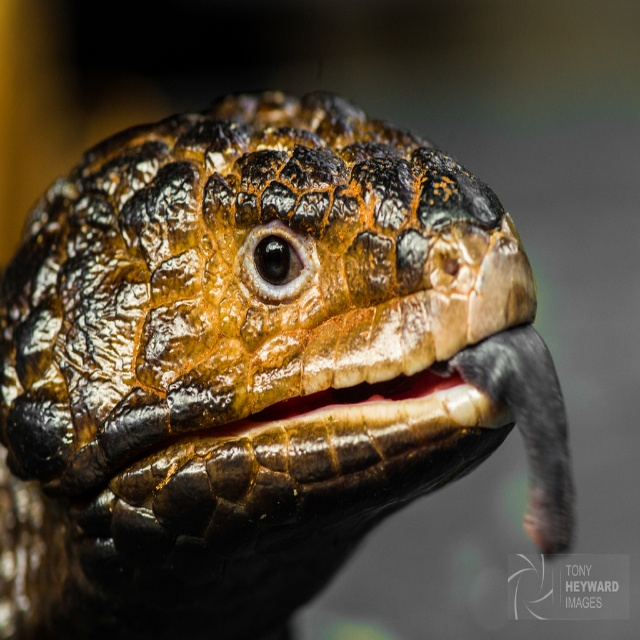Lizard: (0, 85, 577, 633)
